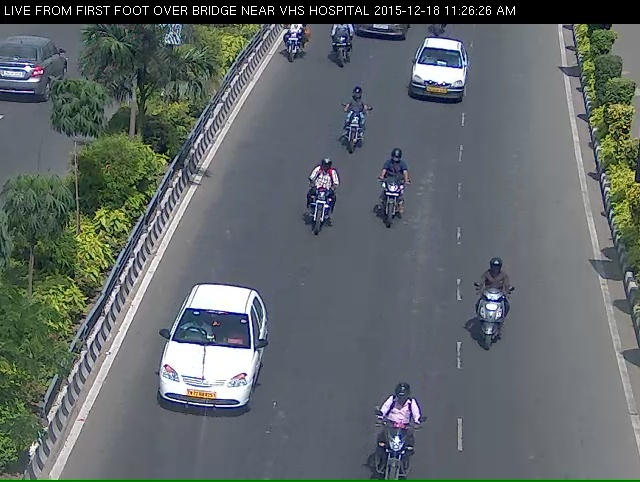Car: (138, 302, 258, 452), (403, 42, 476, 113)
Person: (463, 268, 519, 381), (290, 173, 341, 256), (368, 418, 431, 480), (372, 160, 413, 249), (334, 94, 365, 158), (322, 19, 346, 80), (275, 19, 304, 69)
